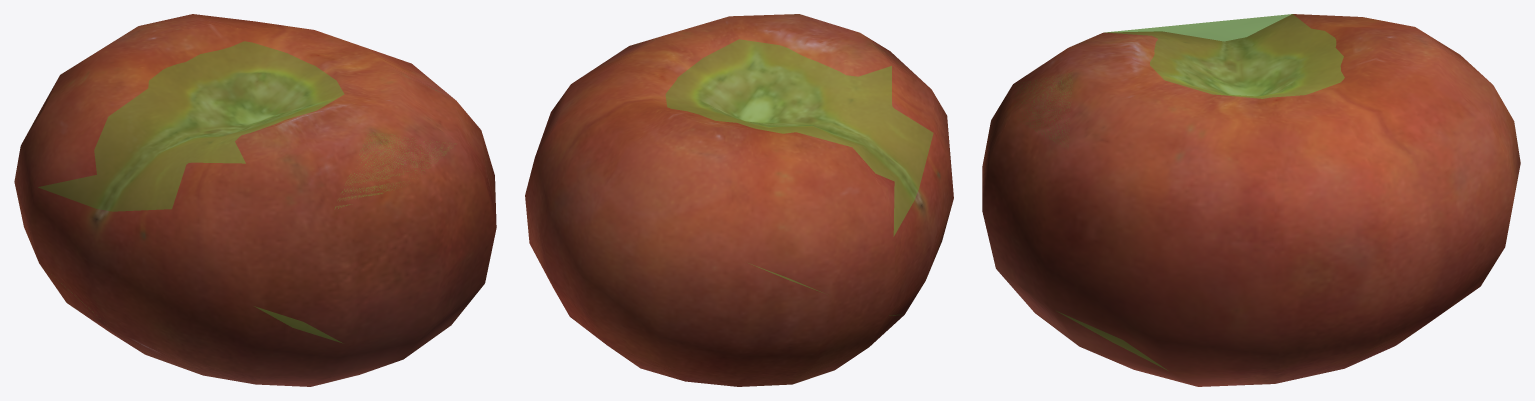
File: pg_Tomato_03.fbx
3 views of the same model, side by side, from view 1: azimuth 30°, elevation 25°; view 2: azimuth 150°, elevation 25°; view 3: azimuth 270°, elevation 25° (orthographic). The views are drawn at different scales.
Parts seen in each view (by area): view 1: pg_Tomato_03_a_LOD0, pg_Tomato_03_a_col; view 2: pg_Tomato_03_a_LOD0, pg_Tomato_03_a_col; view 3: pg_Tomato_03_a_LOD0, pg_Tomato_03_a_col.
Boxes of the visible parts, bbox=[...] form: pg_Tomato_03_a_LOD0: bbox=[14, 14, 496, 386]; pg_Tomato_03_a_col: bbox=[38, 41, 455, 343]; pg_Tomato_03_a_LOD0: bbox=[525, 14, 953, 386]; pg_Tomato_03_a_col: bbox=[665, 39, 933, 315]; pg_Tomato_03_a_LOD0: bbox=[982, 14, 1520, 386]; pg_Tomato_03_a_col: bbox=[1015, 14, 1344, 370].
Size of what is drawn, in the model's own units: 7.77 by 5.27 by 8.81.
